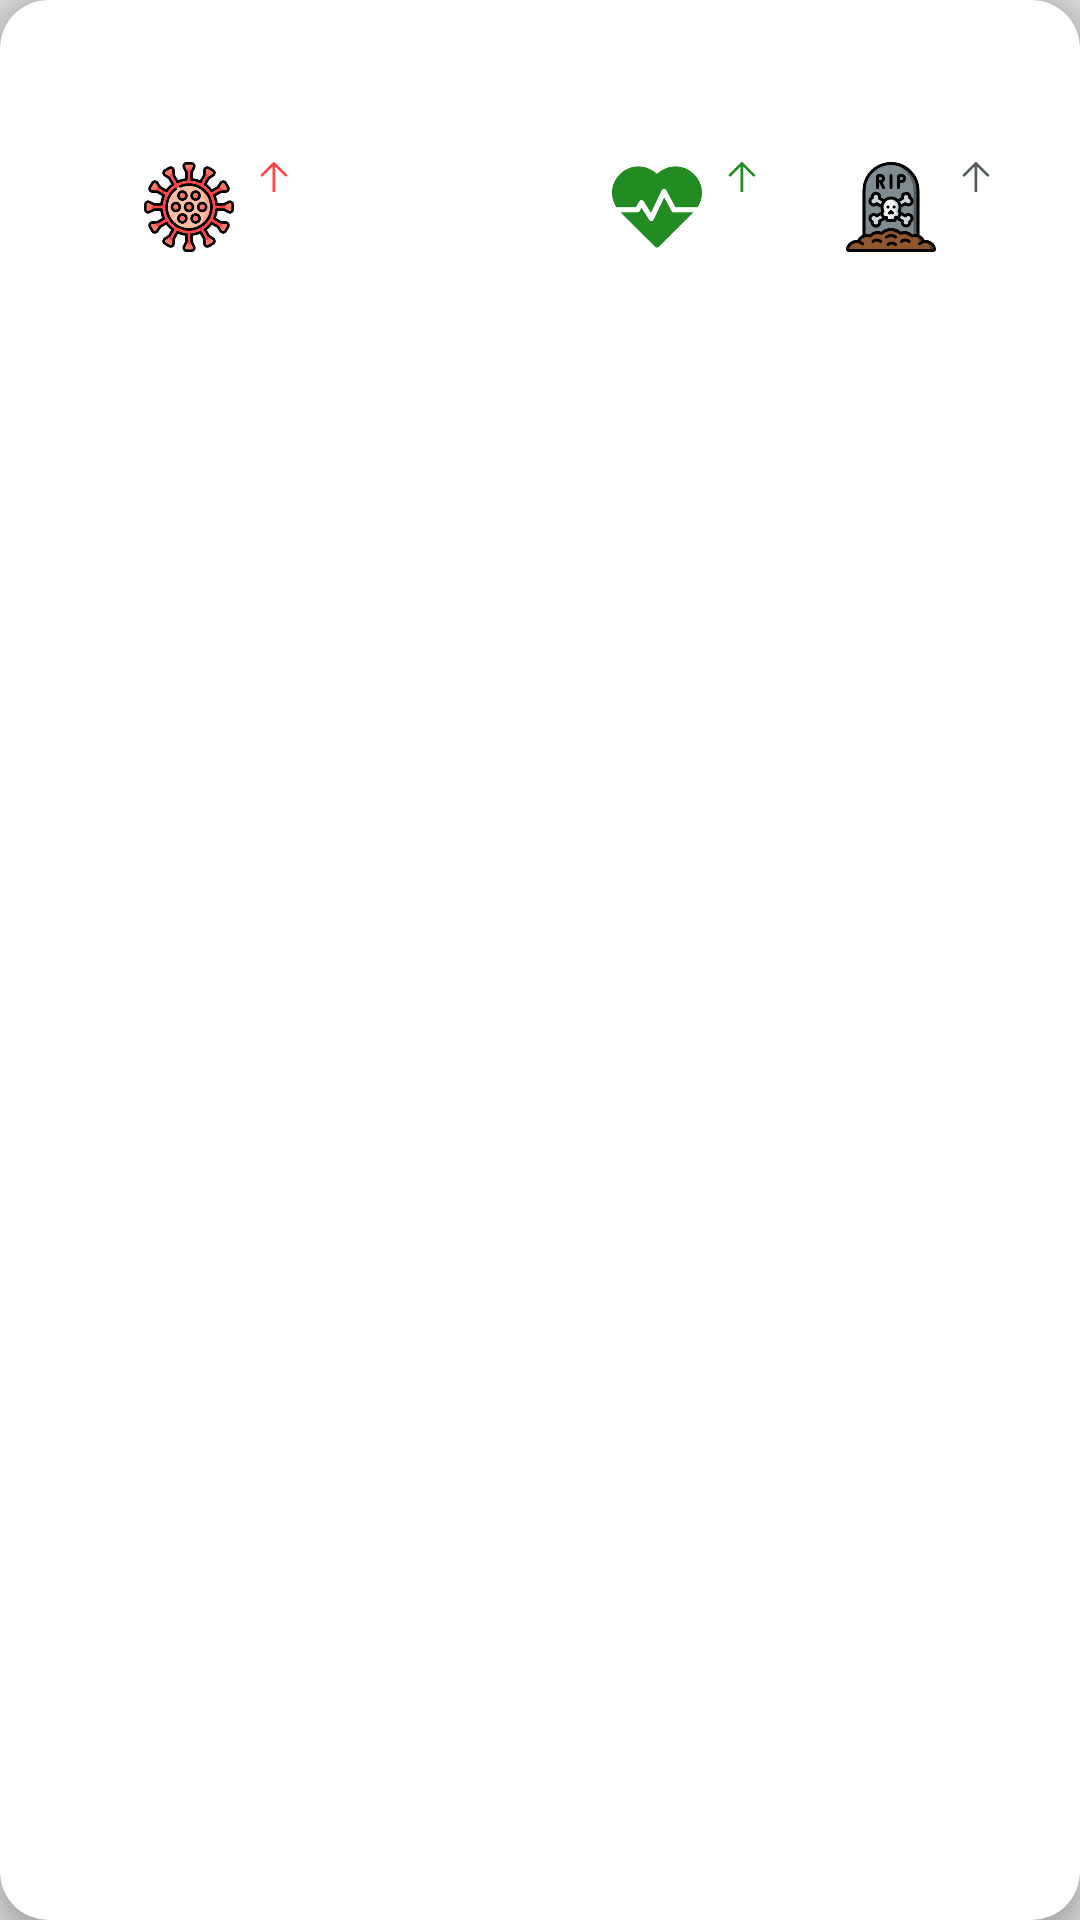

Where icons sit on this 1080x1920 app screen, as [x1,y1,x2,y2]:
death: [846,162,936,252]
heart: [612,166,702,248]
virus: [144,162,234,252]
